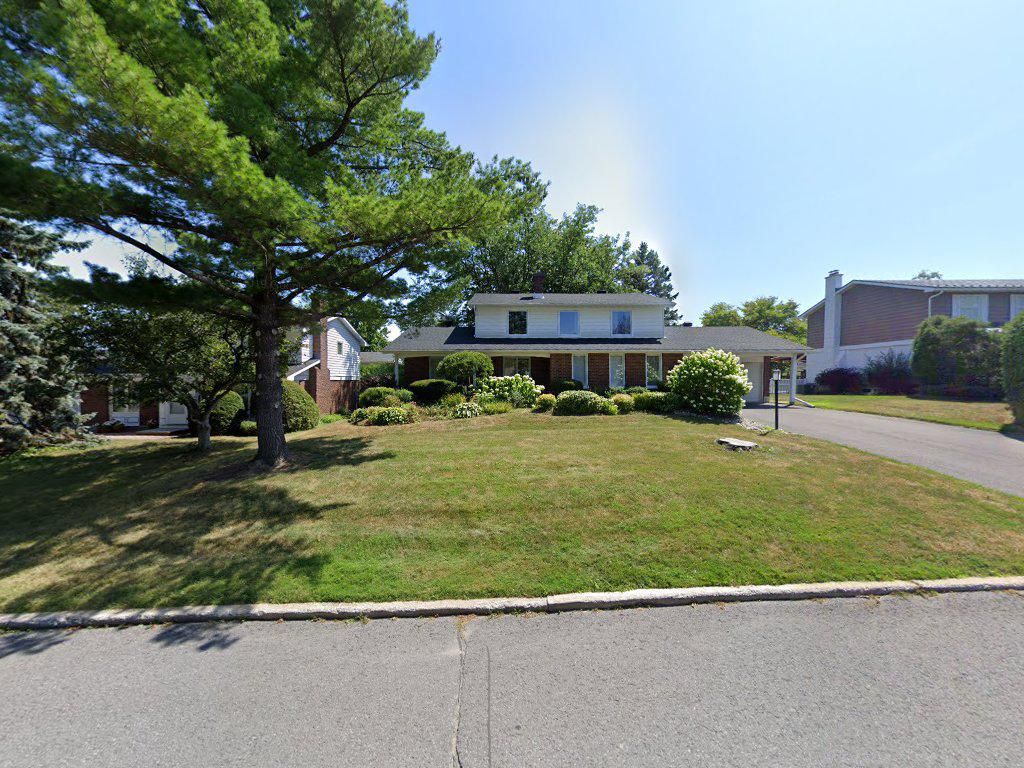trunk: (244, 281, 294, 485)
